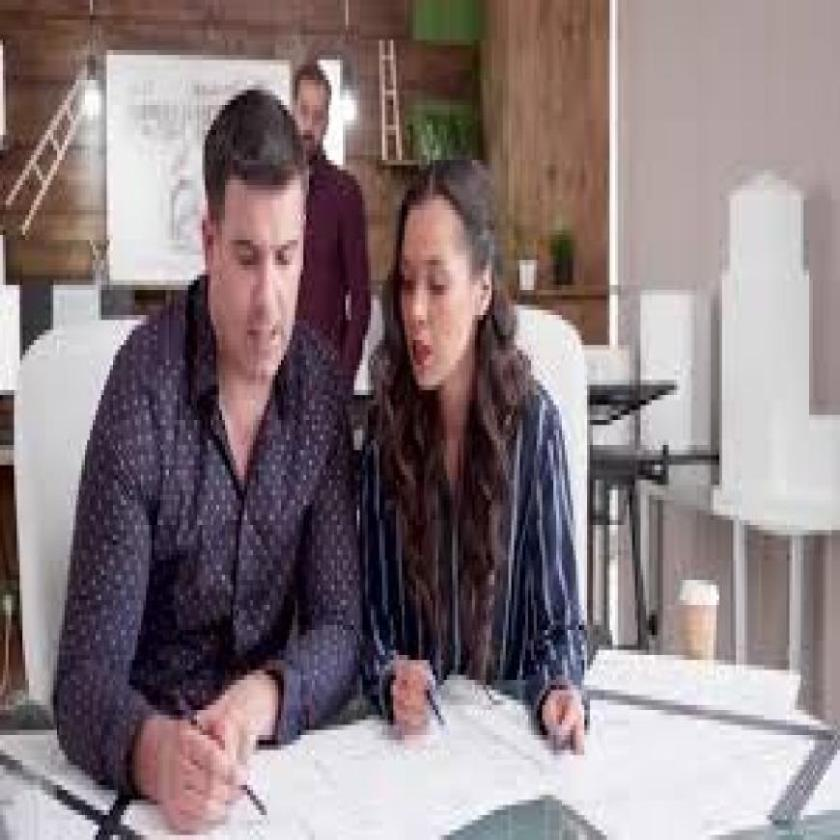Sin_casco: (196, 81, 314, 380), (389, 155, 506, 381)
